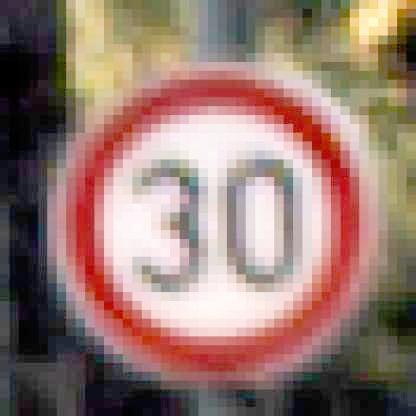Speed Limit -30-: (55, 58, 384, 384)
